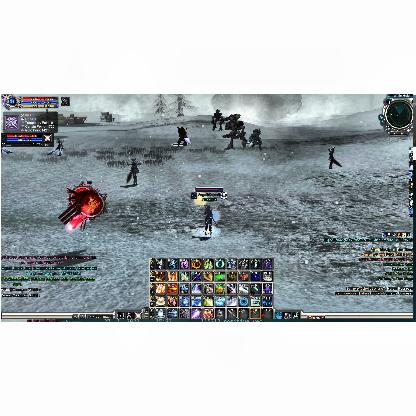caliana: (125, 156, 141, 186), (328, 147, 342, 169), (53, 137, 65, 155)
